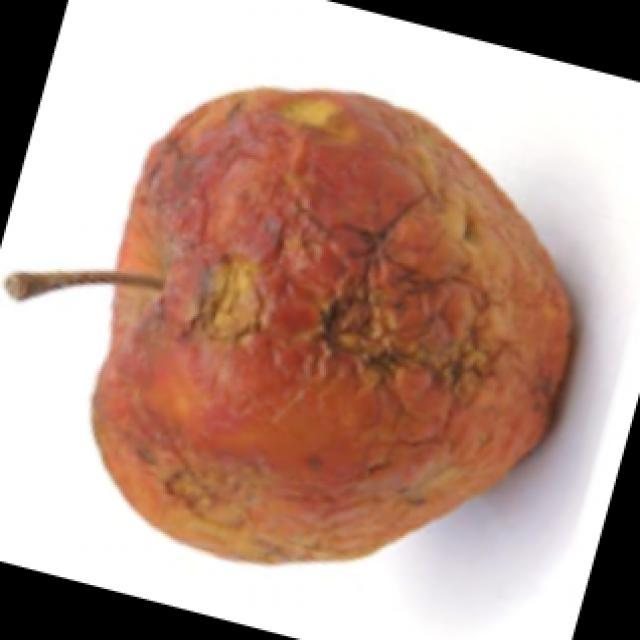Rotten: (84, 60, 568, 565)
